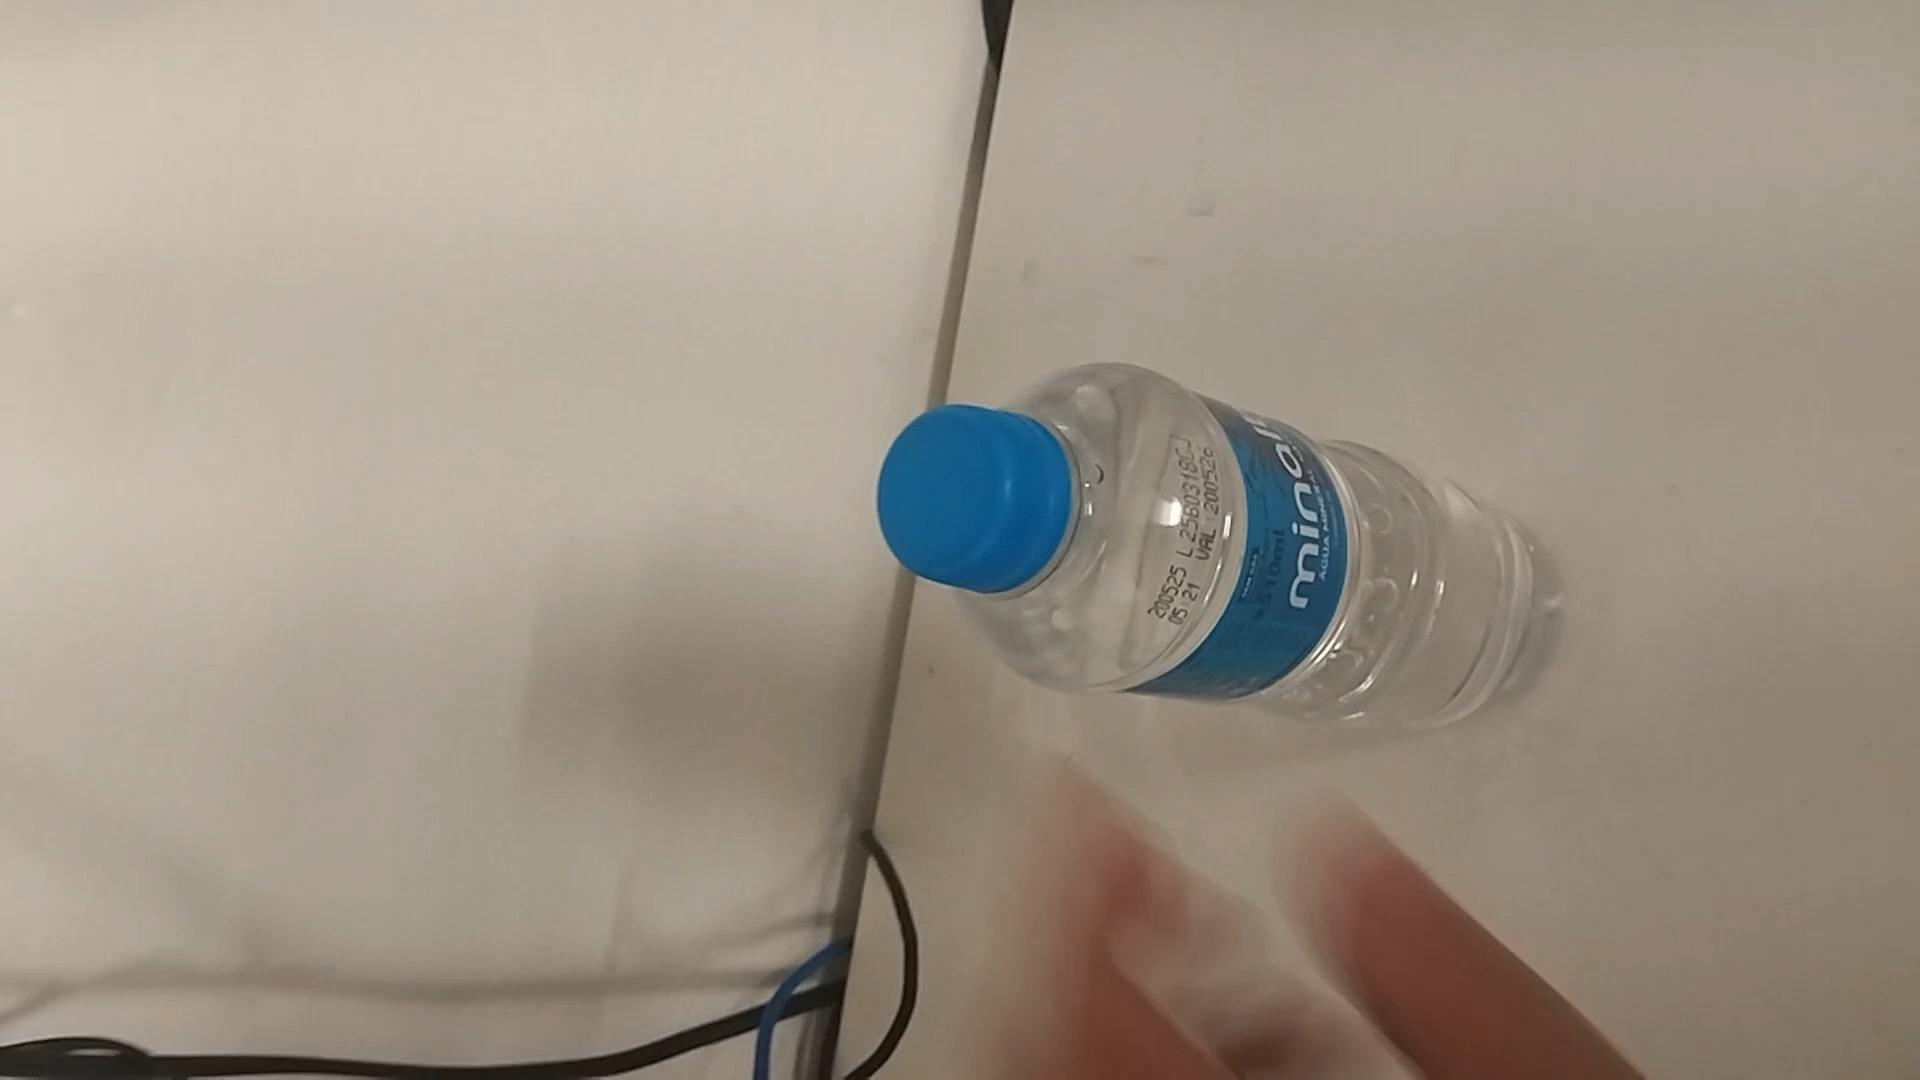agua: (881, 363, 1538, 723)
